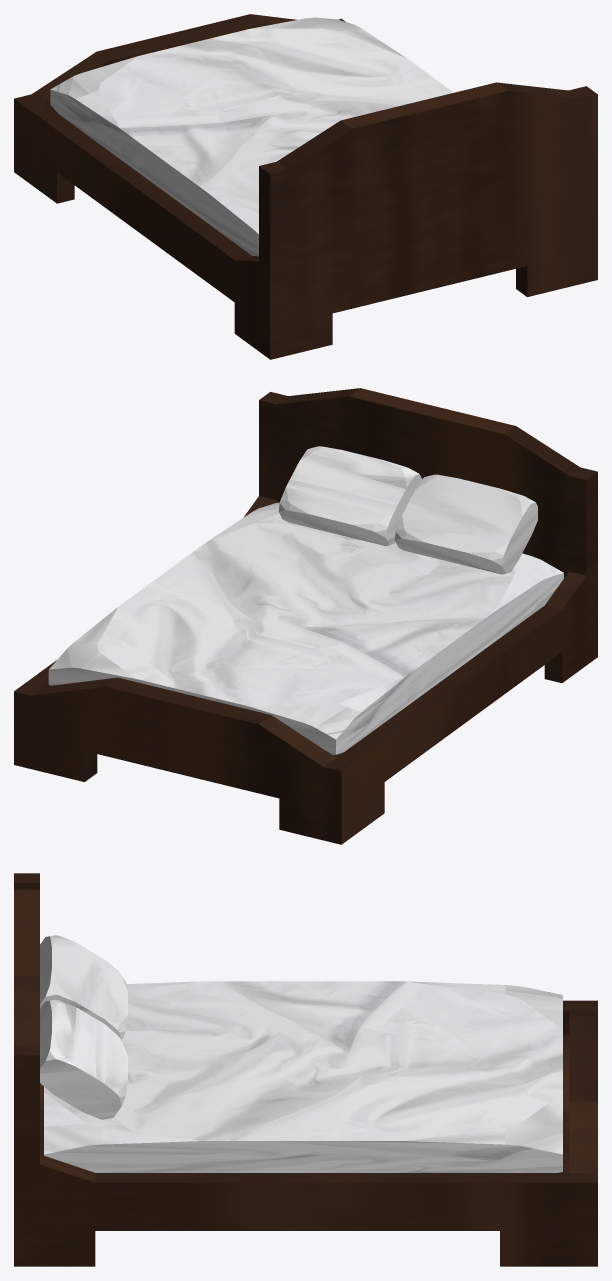
Rendered from Bed.fbx.
3 renders of one model, top to bottom at view 1: azimuth 30°, elevation 25°; view 2: azimuth 150°, elevation 25°; view 3: azimuth 270°, elevation 25°, orthographic. The views are drawn at different scales.
Parts seen in each view (by area): view 1: Bed; view 2: Bed; view 3: Bed.
Boxes of the visible parts, <box> form: Bed: <box>14,14,597,359</box>; Bed: <box>14,388,597,844</box>; Bed: <box>14,873,597,1266</box>.
Size of the model in its own units: 720 by 443 by 976.
1 material, 1 textured.
